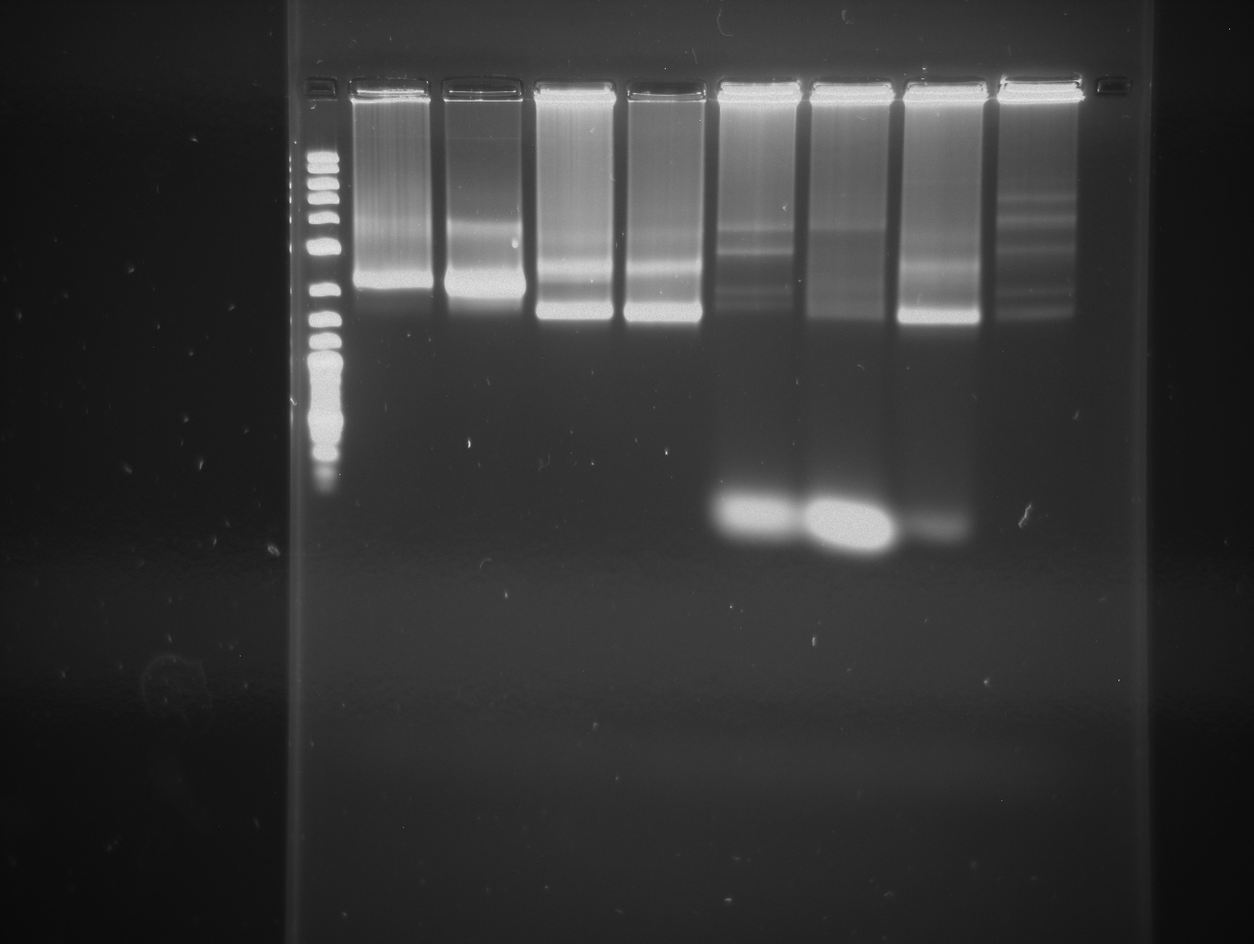Lane: (353, 7, 447, 944), (807, 25, 896, 944), (904, 18, 992, 944), (530, 23, 618, 916), (1000, 21, 1082, 944), (716, 30, 799, 941), (625, 28, 707, 944), (454, 5, 520, 944)
ladder: (286, 21, 345, 944)
